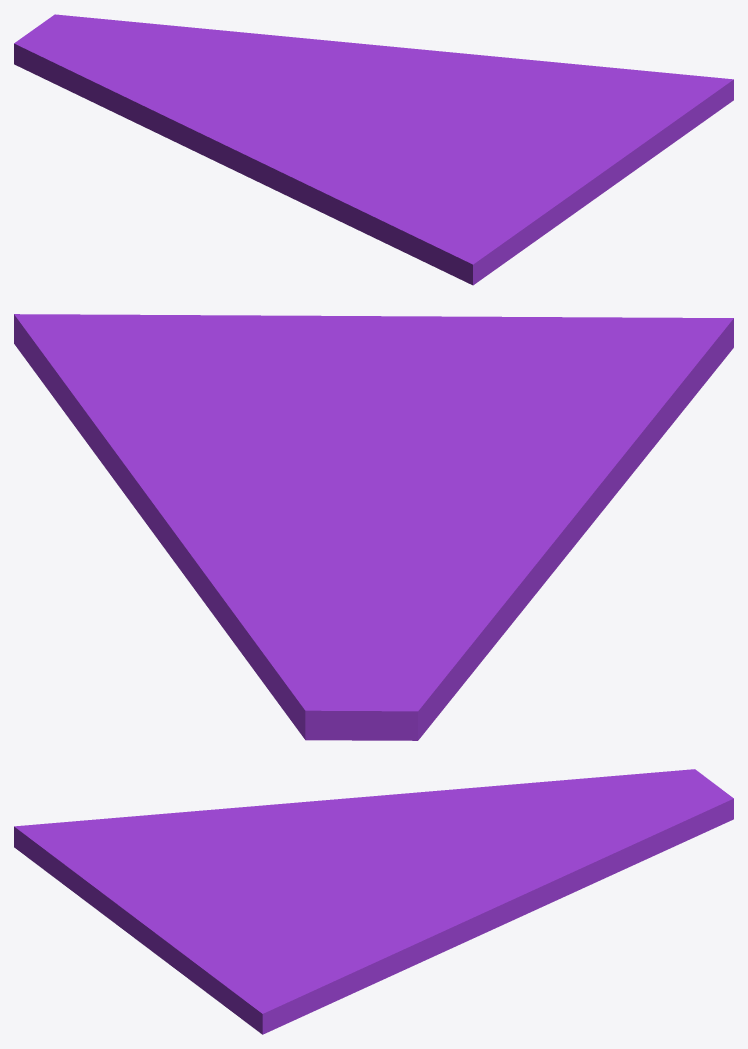
File: StairsStep_24.fbx
3 views of the same model, one above another, from view 1: azimuth 30°, elevation 25°; view 2: azimuth 150°, elevation 25°; view 3: azimuth 270°, elevation 25° (orthographic). The views are drawn at different scales.
Visible parts, largest first — view 1: StairsStep_24; view 2: StairsStep_24; view 3: StairsStep_24.
Part boxes in pixels (<box>): StairsStep_24: <box>14,14,733,285</box>; StairsStep_24: <box>14,314,733,740</box>; StairsStep_24: <box>14,769,733,1034</box>.
Size of the model in its own units: 452 by 17.94 by 561.
